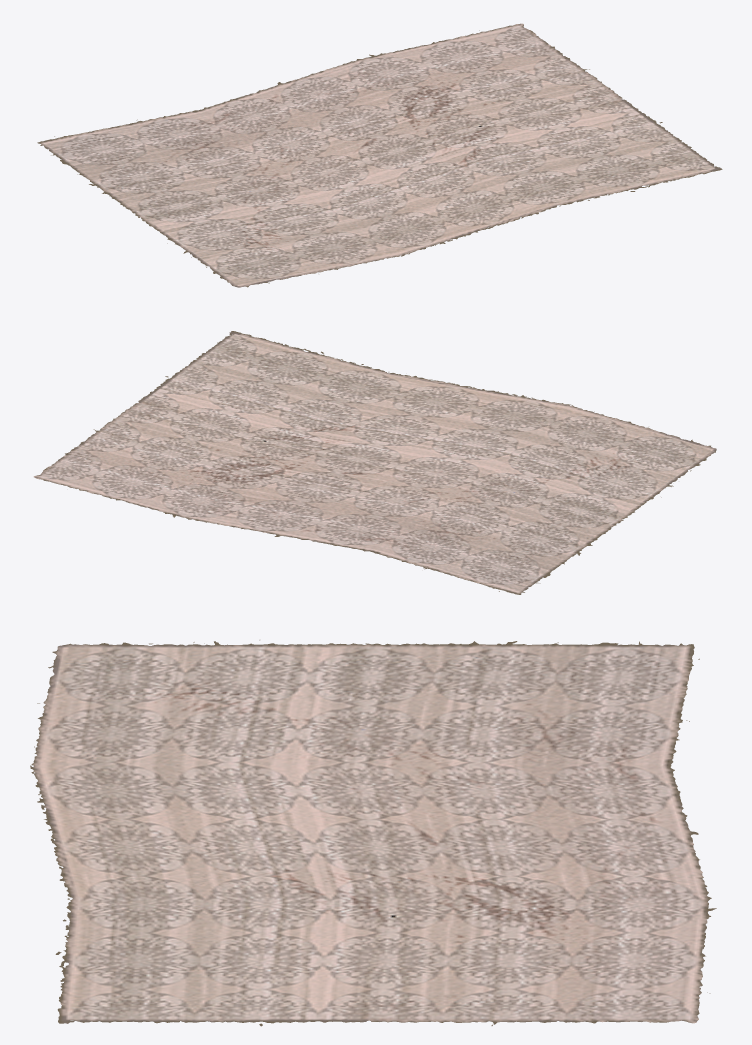
The model's file is Rug_2.fbx.
The picture shows the model from 3 angles, top to bottom: view 1: azimuth 30°, elevation 25°; view 2: azimuth 150°, elevation 25°; view 3: azimuth 270°, elevation 25°; orthographic projection. The views are drawn at different scales.
Parts seen in each view (by area): view 1: Rug_2; view 2: Rug_2; view 3: Rug_2.
Part boxes in pixels (x1,y1,x2,y2): Rug_2: [37, 23, 722, 287]; Rug_2: [33, 331, 716, 594]; Rug_2: [30, 640, 716, 1026].
Bounding box in the file's own units: 200 × 2.51e-05 × 154.
